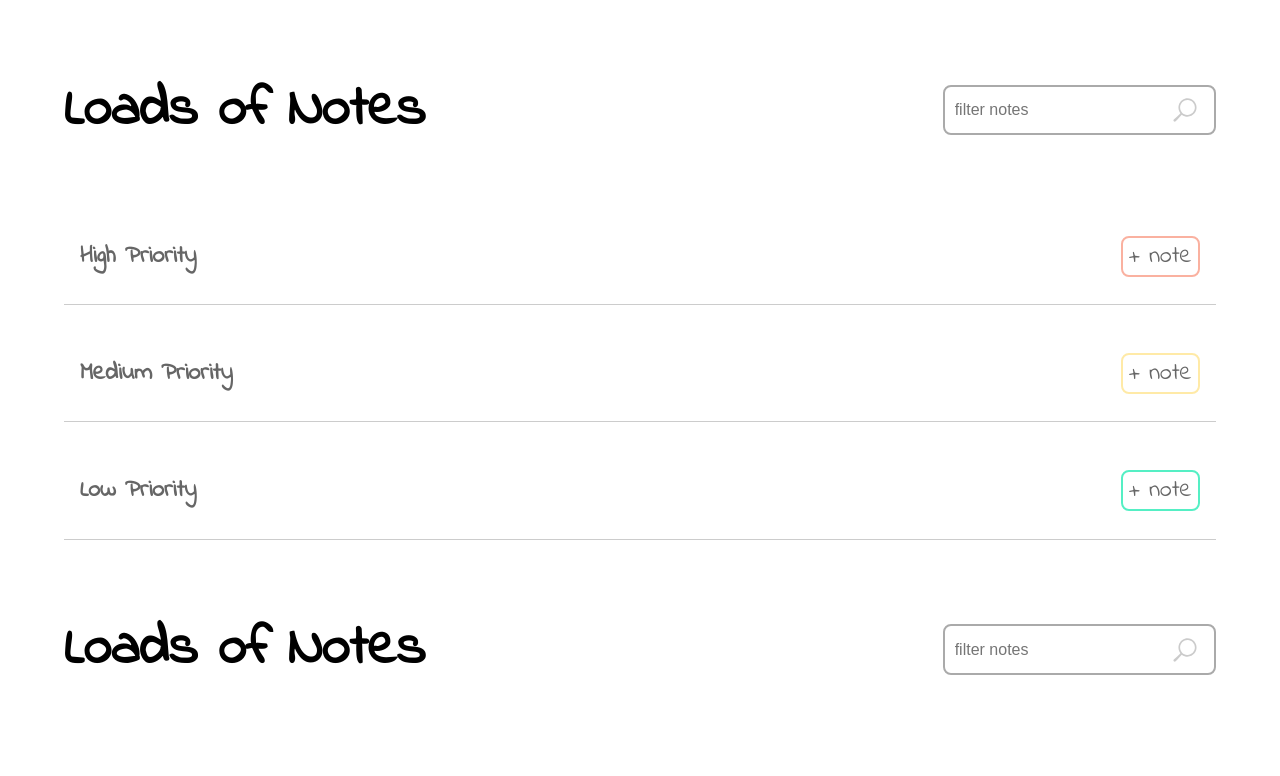
Test: App › when new note popup is already in the dom › adds noteCard when note is closed
This screenshot has width=1280, height=776.
Click the 1st button with test id "add-note-button". click: (1160, 256)
box: [1121,236,1200,277]
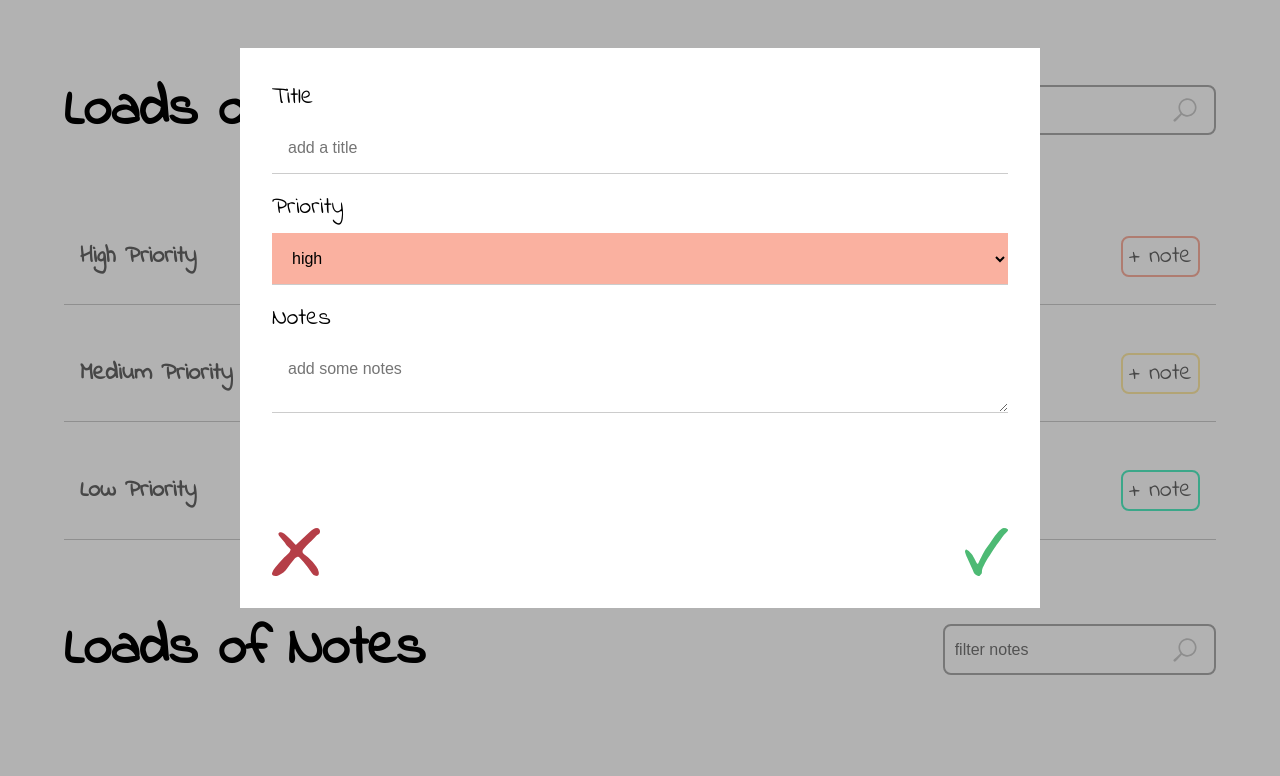
Type "note title" into the field with test id "title-input". click: (640, 148)
box: [272,123,1008,174]
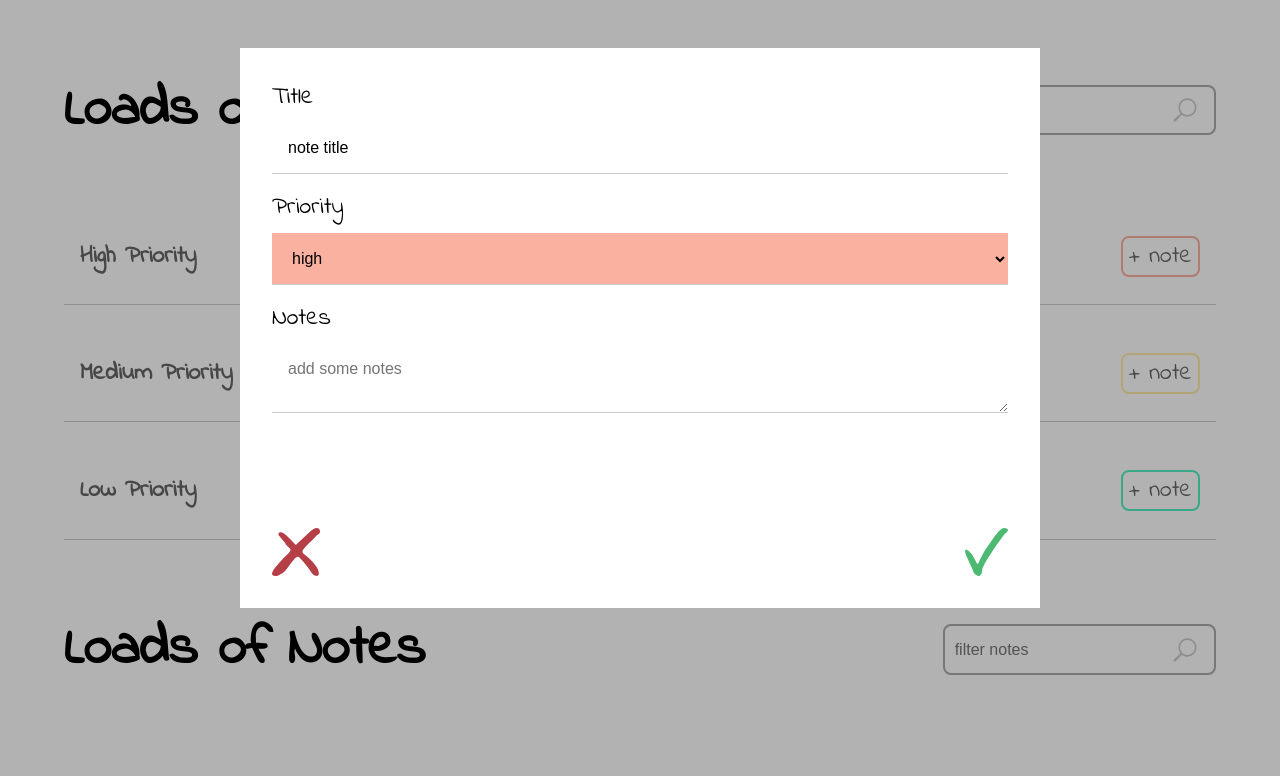
Click the picture with test id "note-save". click: (986, 552)
box: [964,528,1008,576]
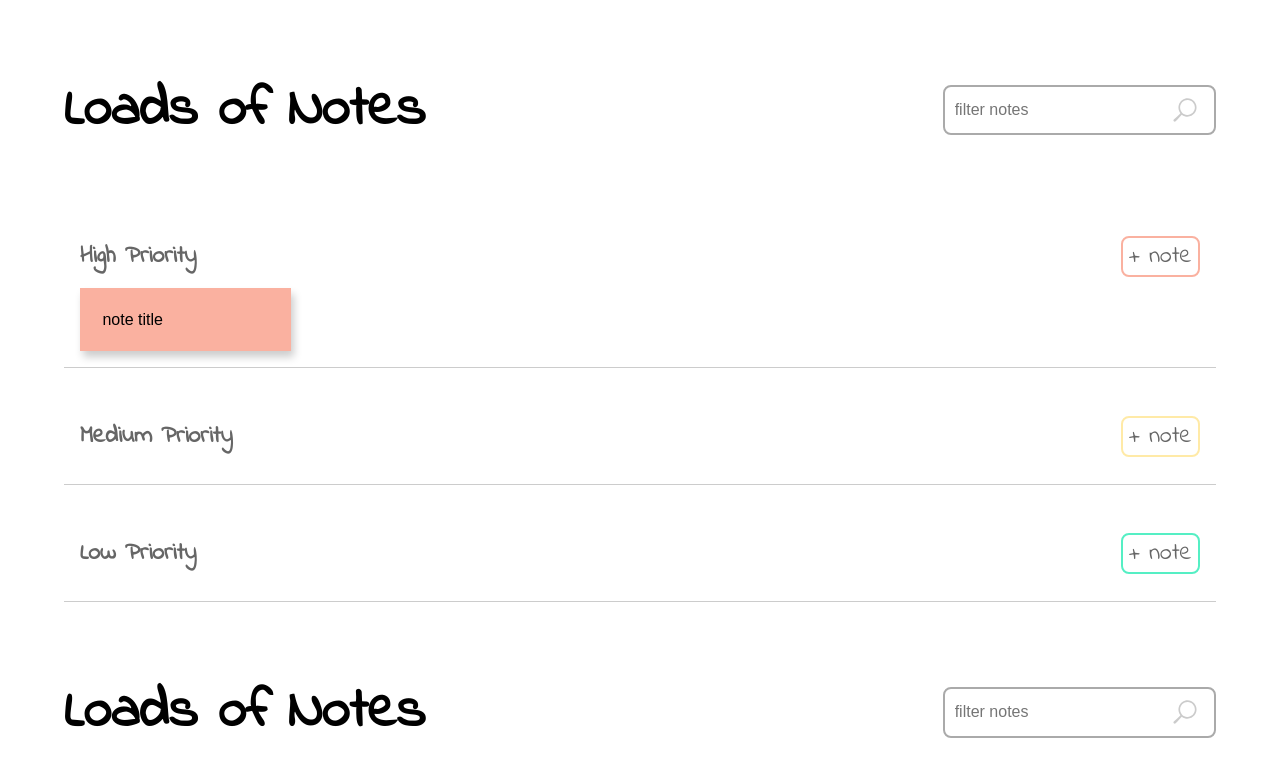
Expected: the number of elements with test id "component-note-card" is 1, [80,288,291,351]
